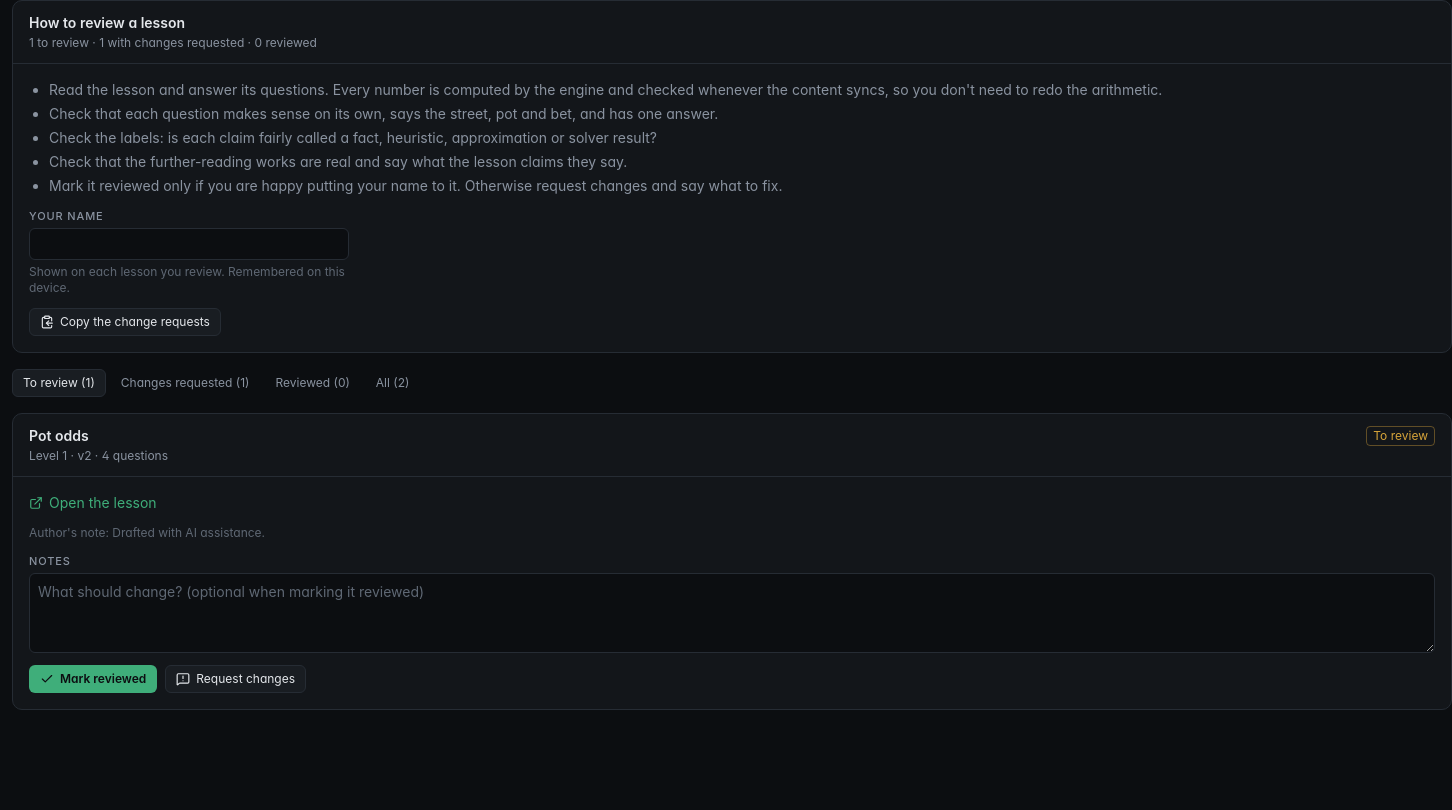
lesson review page › lists lessons to review and posts a review with the reviewer's name
Click the button "Mark reviewed" at (93, 679), box [29,665,157,693]
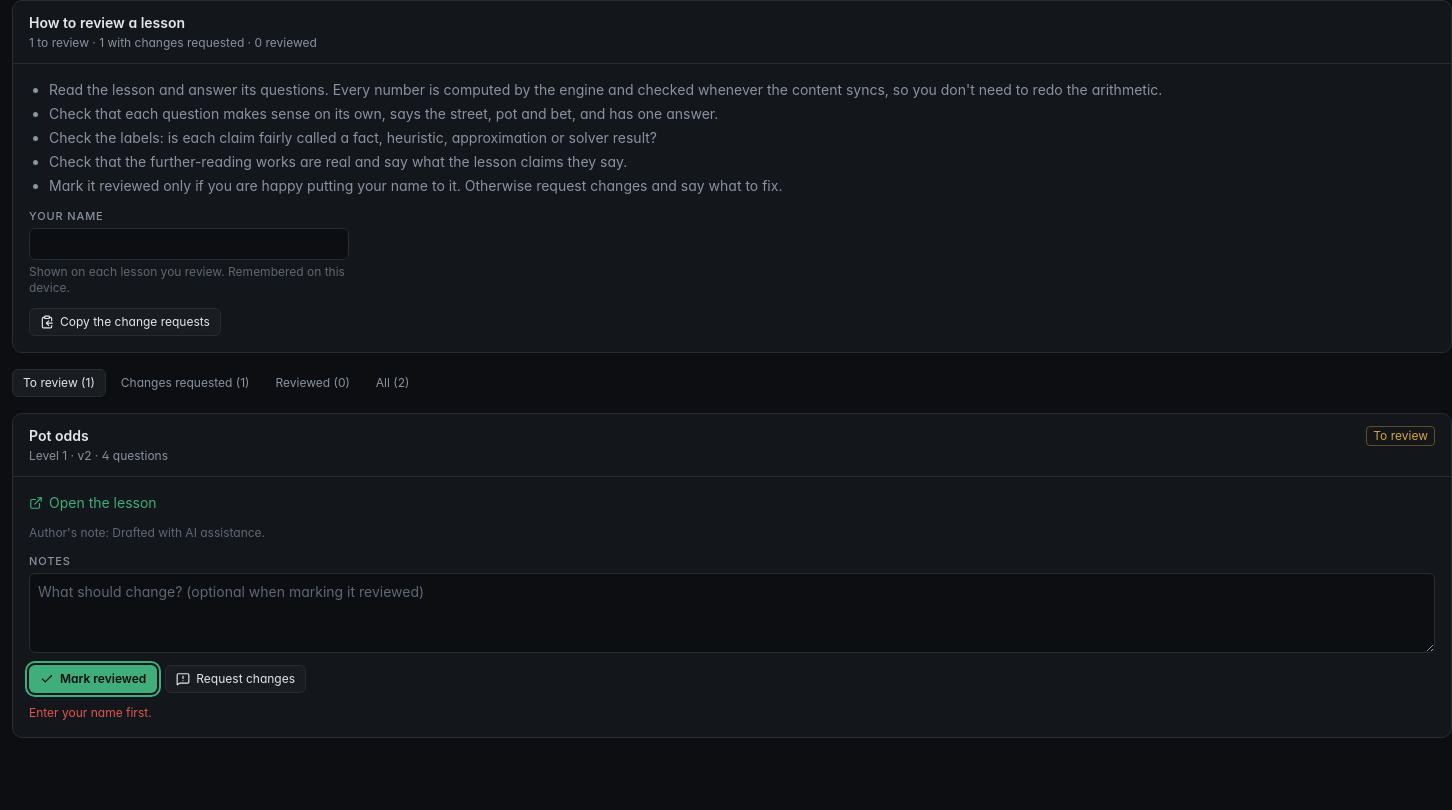
Check: the message reads "Enter your name first.", box [29,705,152,720]
Type "Sam" into the field labelled "Your name" at (189, 244), box [29,228,349,260]
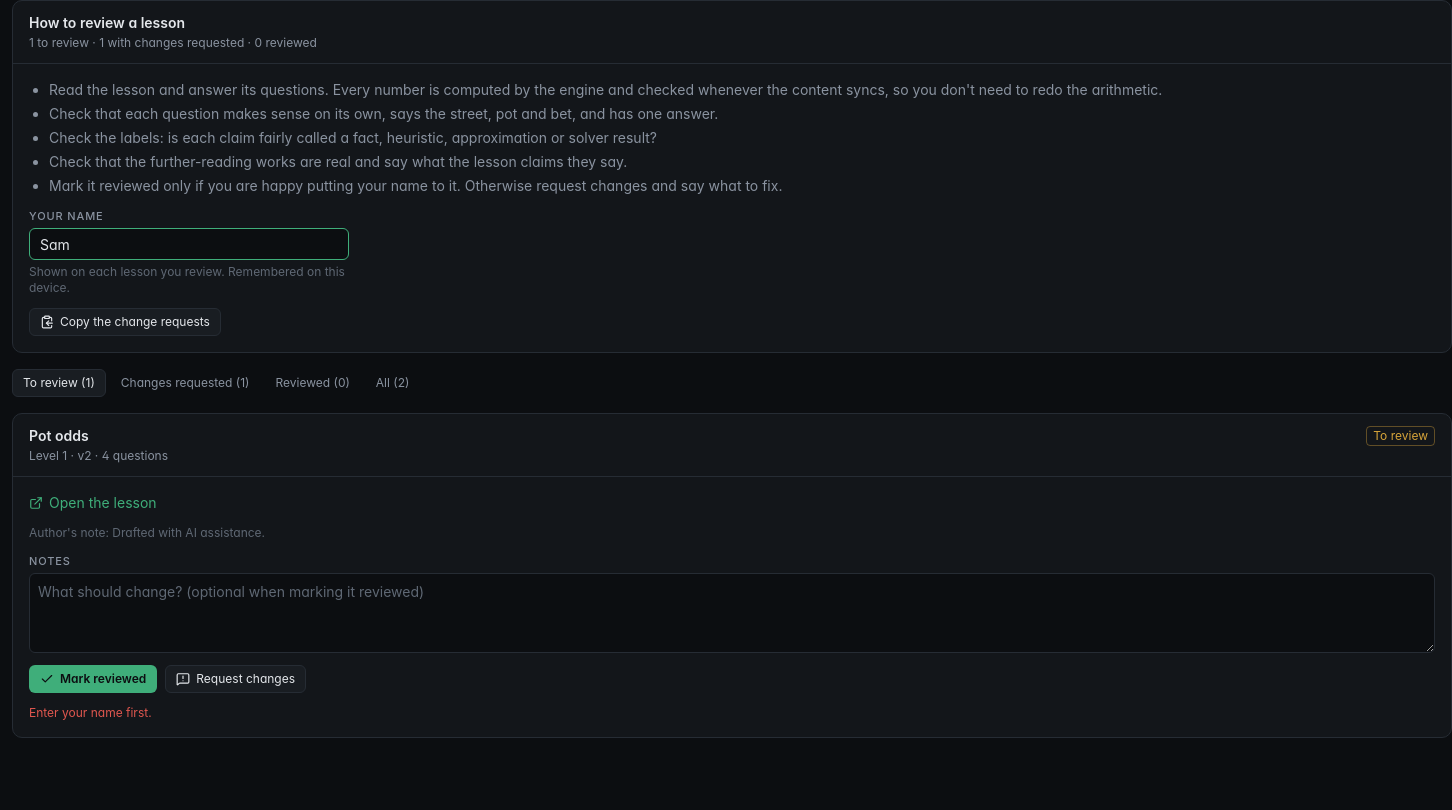
Click the button "Request changes" at (236, 679), box [165,665,306,693]
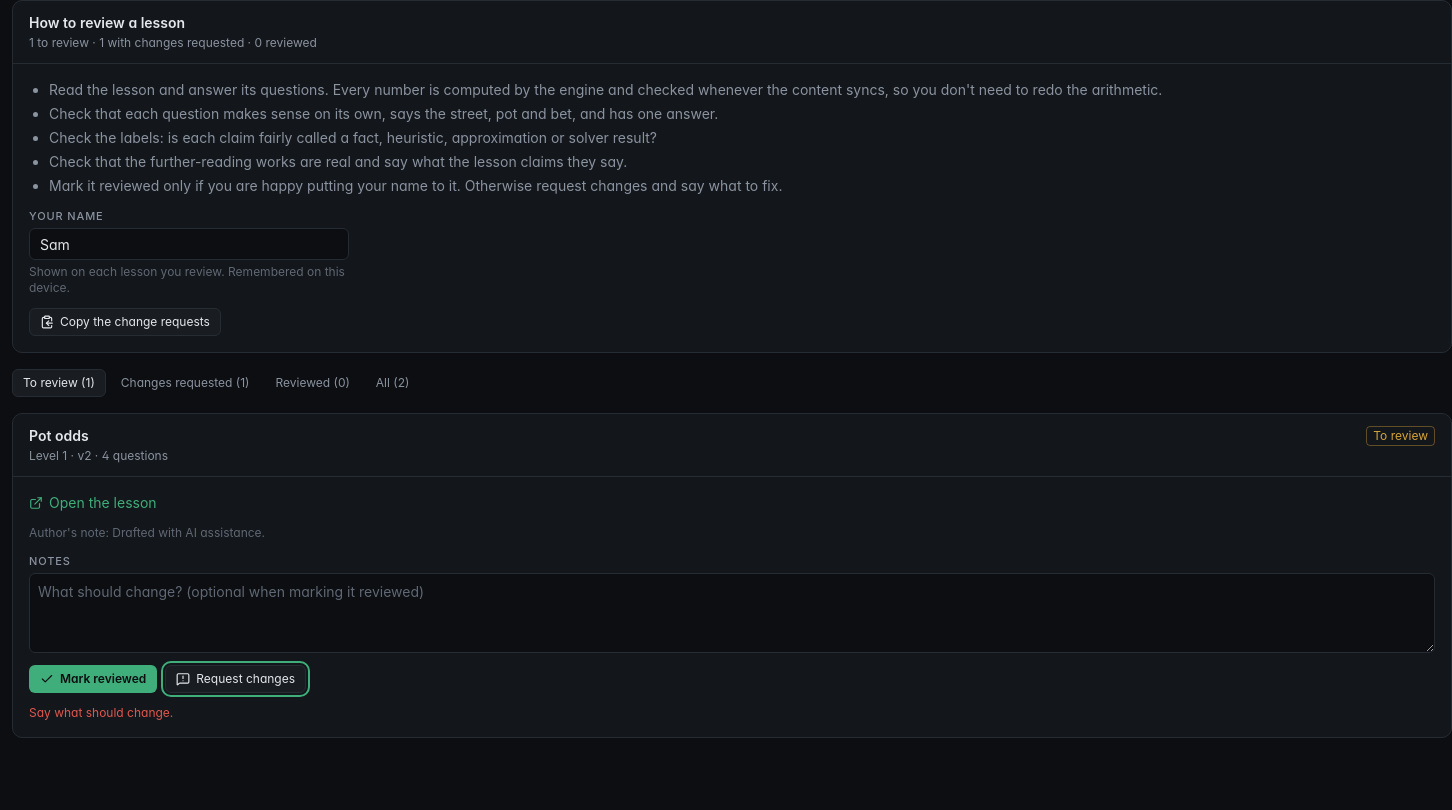
Check: the message reads "Say what should change.", box [29,705,173,720]
Click the button "Mark reviewed" at (93, 679), box [29,665,157,693]
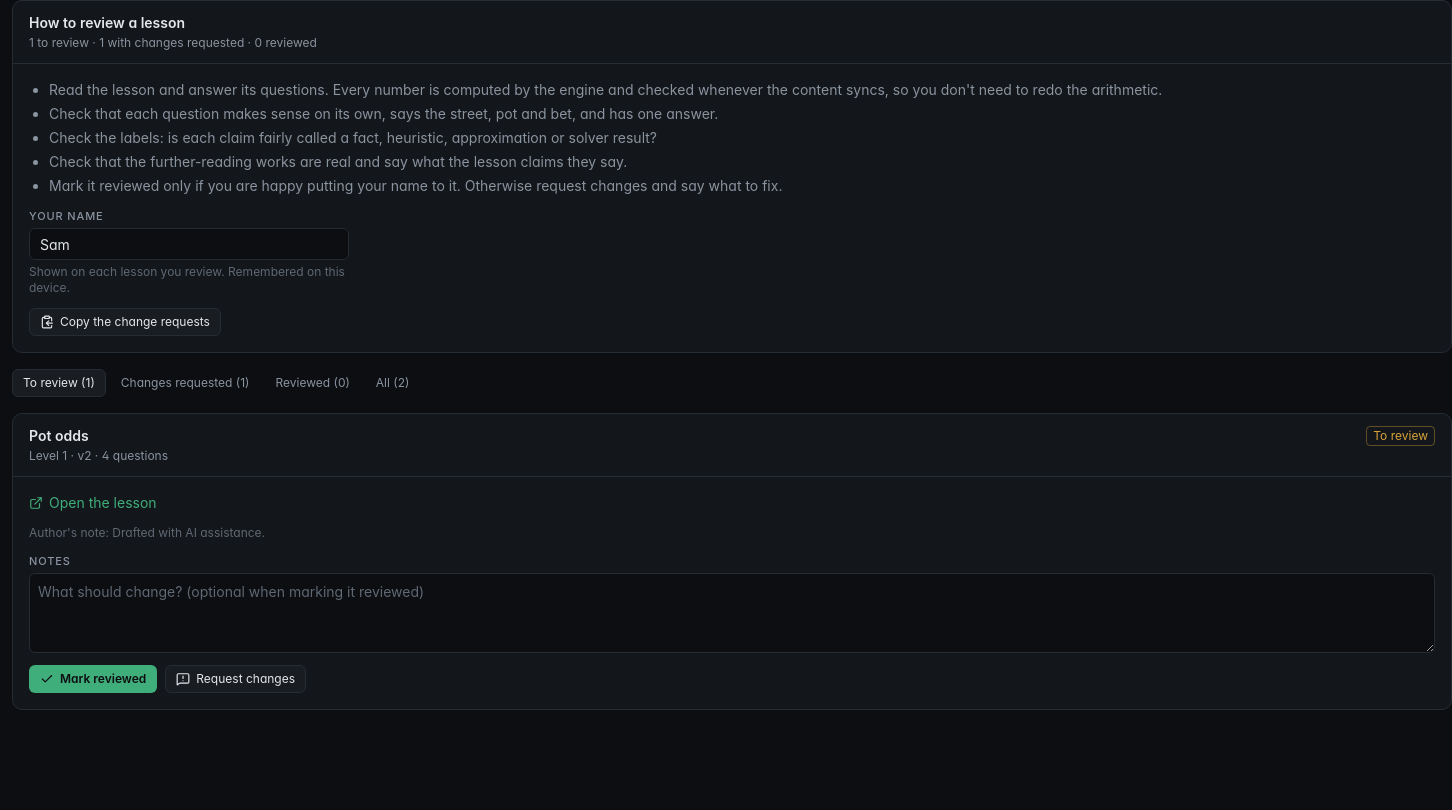
Check: the element named "Review of Pot odds" is shown, box [12,413,1451,710]
Click the tab "Changes requested (1)" at (185, 383), box [110,369,260,397]
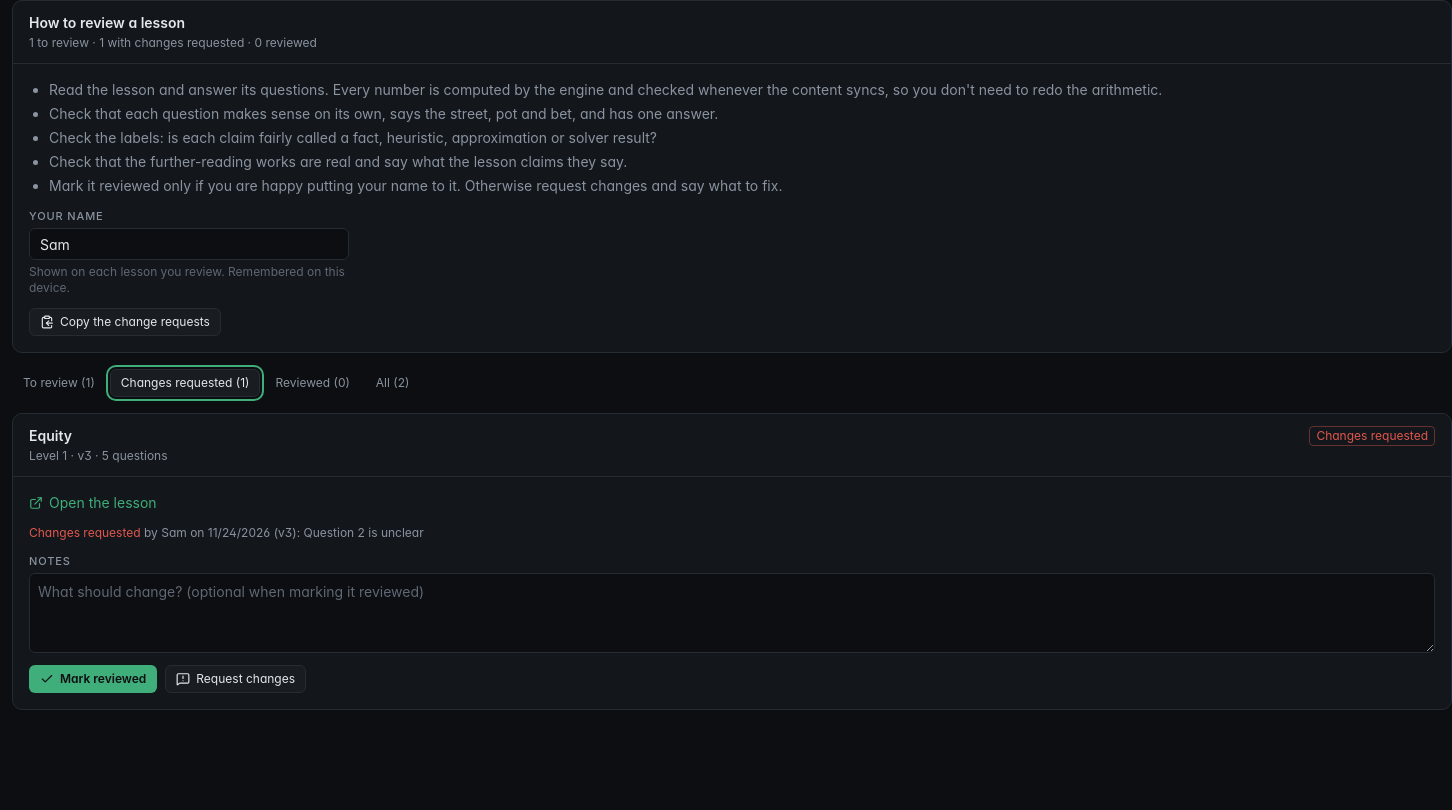
Check: the element named "Review of Equity" shows "Question 2 is unclear", box [297,525,424,540]
